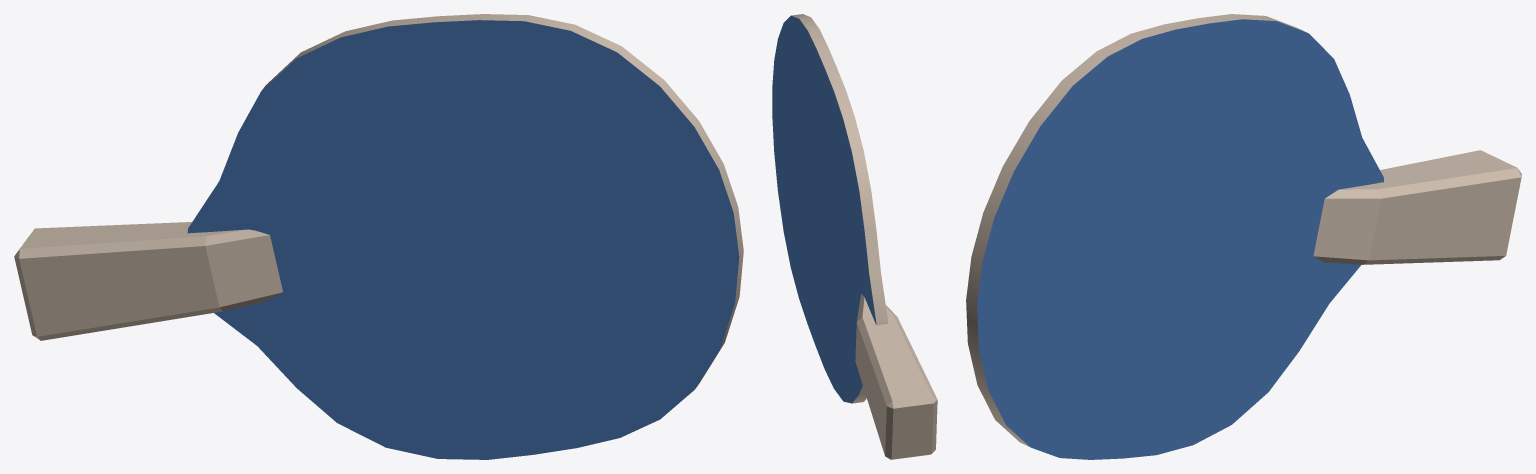
Rendered from paddel1.glb.
The picture shows the model from 3 angles, left to right: view 1: azimuth 30°, elevation 25°; view 2: azimuth 150°, elevation 25°; view 3: azimuth 270°, elevation 25°; orthographic projection. The views are drawn at different scales.
Visible parts, largest first — view 1: blue paddle; view 2: blue paddle; view 3: blue paddle.
Boxes of the visible parts, x1,y1,x2,y2 form: blue paddle: (14, 14, 743, 459); blue paddle: (772, 14, 937, 459); blue paddle: (966, 14, 1521, 459).
Bounding box in the file's own units: 0.6042 × 0.5409 × 0.6253.
Materials: 1 (1 with a texture image).
